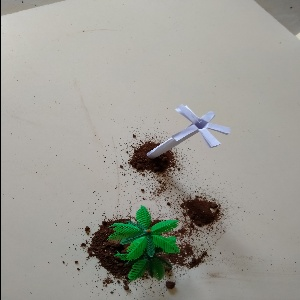plant: (104, 206, 178, 282)
weed: (145, 106, 231, 169)
